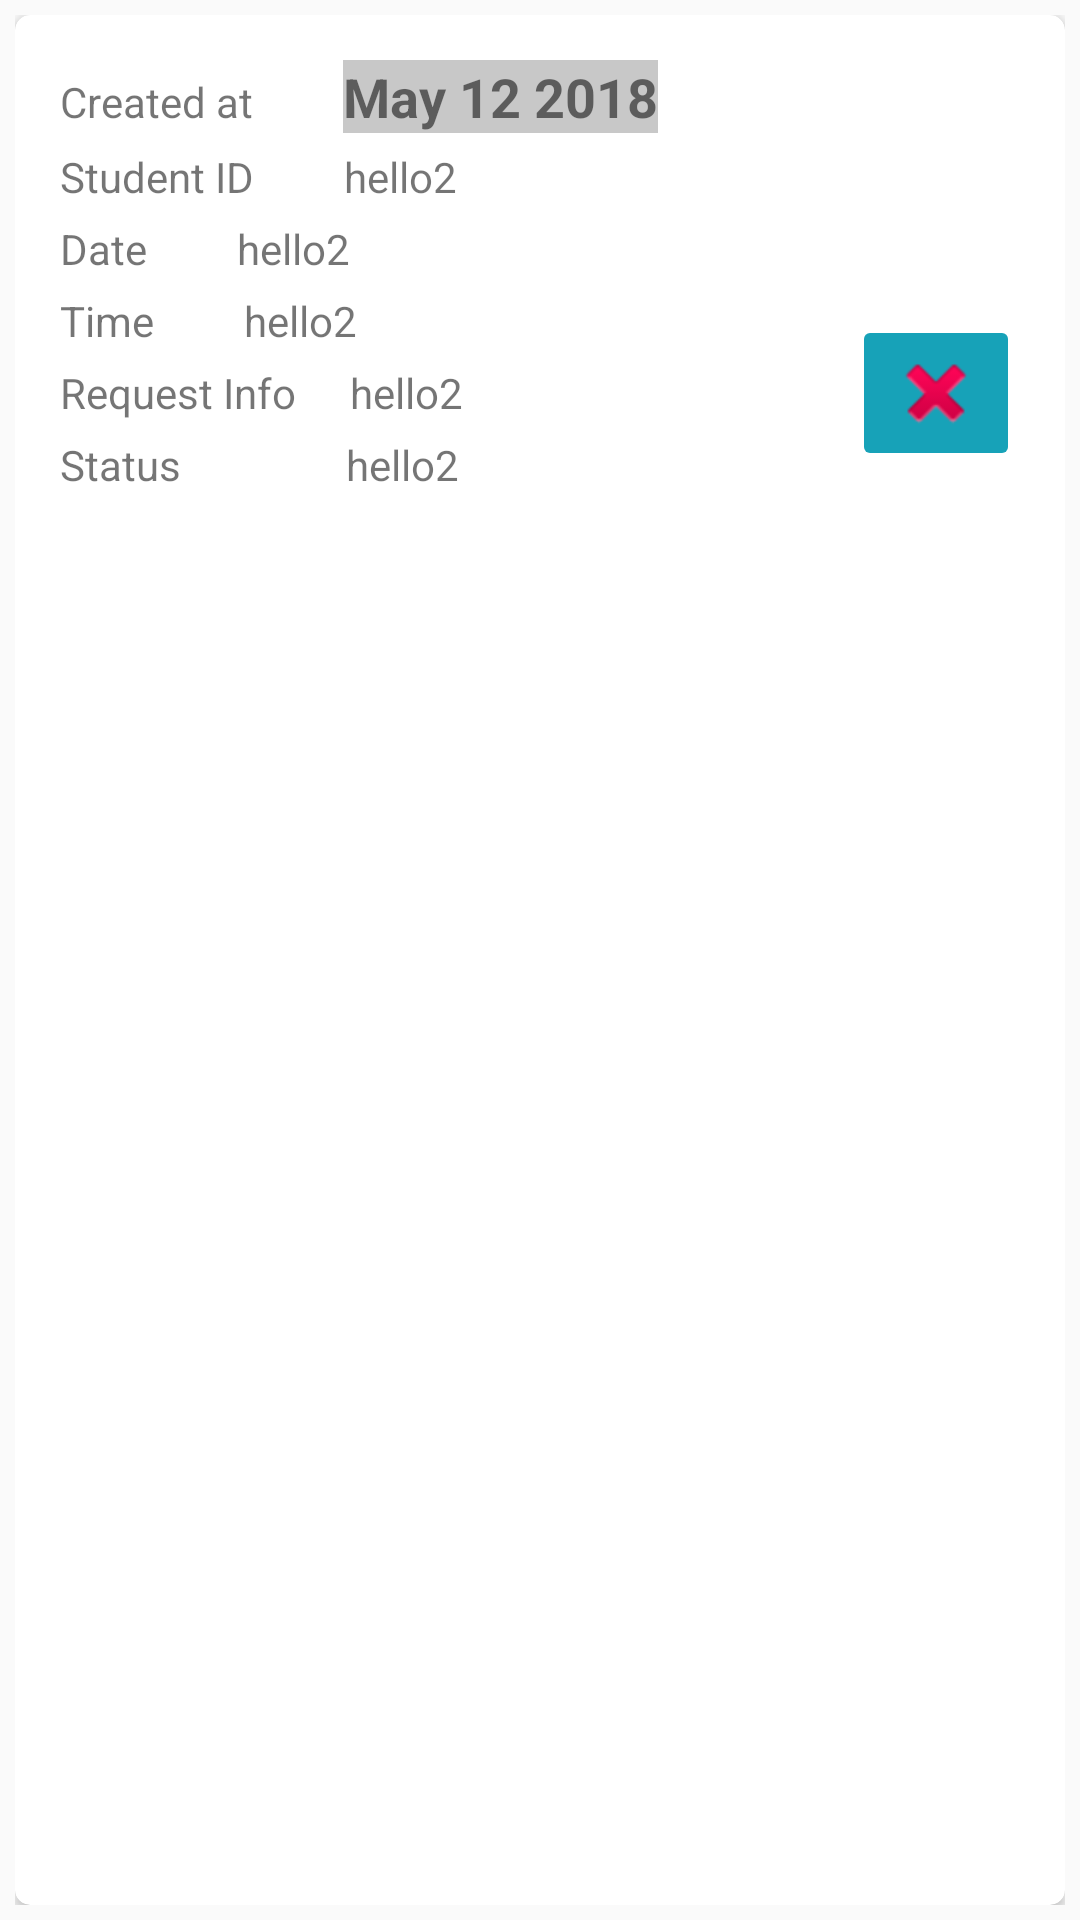

Locate icon controls on the screen. Image size 1080px×1920px, boxes as [left=x1, top=y1, right=x2, bottom=y2].
delete: [left=864, top=333, right=1008, bottom=453]
